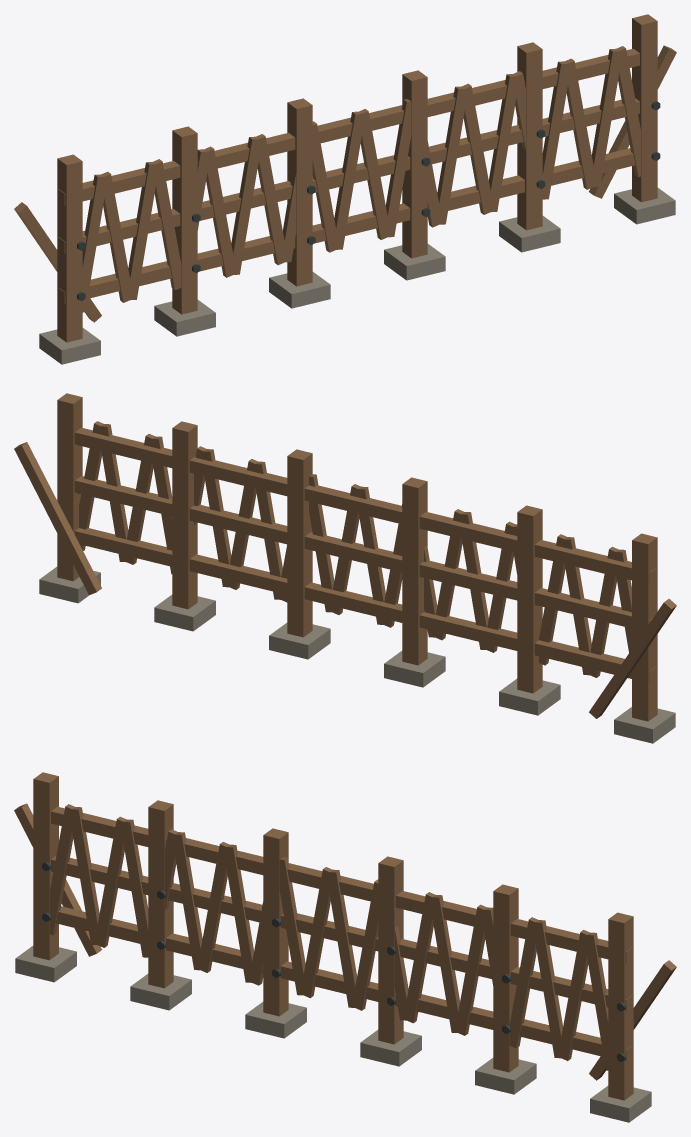
File: windbreak.source.glb
The picture shows the model from 3 angles, top to bottom: view 1: azimuth 30°, elevation 25°; view 2: azimuth 150°, elevation 25°; view 3: azimuth 330°, elevation 25°; orthographic projection.
Visible parts, largest first — view 1: windbreak-rail-1.3-mesh, windbreak-rail-0.48-mesh, windbreak-rail-0.9-mesh, windbreak-post-0-mesh, windbreak-post-1-mesh, windbreak-post-3-mesh, windbreak-post-4-mesh, windbreak-post-5-mesh, windbreak-post-2-mesh, windbreak-slat-10-mesh, windbreak-slat-6-mesh, windbreak-slat-20-mesh (+27 smaller); view 2: windbreak-rail-1.3-mesh, windbreak-rail-0.9-mesh, windbreak-rail-0.48-mesh, windbreak-post-1-mesh, windbreak-post-3-mesh, windbreak-post-4-mesh, windbreak-post-2-mesh, windbreak-post-0-mesh, windbreak-post-5-mesh, windbreak-brace-2.5-mesh, windbreak-brace--2.5-mesh, windbreak-foot-1-mesh (+24 smaller); view 3: windbreak-rail-1.3-mesh, windbreak-rail-0.48-mesh, windbreak-rail-0.9-mesh, windbreak-post-5-mesh, windbreak-post-4-mesh, windbreak-post-2-mesh, windbreak-post-1-mesh, windbreak-post-0-mesh, windbreak-post-3-mesh, windbreak-slat-19-mesh, windbreak-slat-15-mesh, windbreak-slat-1-mesh (+27 smaller).
Part boxes in pixels (x1,y1,x2,y2): windbreak-rail-1.3-mesh: (58, 48, 639, 205); windbreak-rail-0.48-mesh: (58, 148, 635, 304); windbreak-rail-0.9-mesh: (58, 98, 639, 253); windbreak-post-0-mesh: (57, 154, 82, 342); windbreak-post-1-mesh: (172, 126, 197, 314); windbreak-post-3-mesh: (402, 70, 427, 258); windbreak-post-4-mesh: (517, 42, 542, 230); windbreak-post-5-mesh: (632, 14, 657, 202); windbreak-post-2-mesh: (287, 98, 312, 286); windbreak-slat-10-mesh: (332, 111, 365, 249); windbreak-slat-6-mesh: (230, 136, 262, 274); windbreak-slat-20-mesh: (590, 48, 622, 186); windbreak-rail-1.3-mesh: (74, 427, 656, 584); windbreak-rail-0.9-mesh: (74, 476, 652, 628); windbreak-rail-0.48-mesh: (74, 528, 656, 683); windbreak-post-1-mesh: (517, 505, 542, 693); windbreak-post-3-mesh: (287, 449, 312, 637); windbreak-post-4-mesh: (172, 421, 197, 609); windbreak-post-2-mesh: (402, 477, 427, 665); windbreak-post-0-mesh: (632, 533, 657, 721); windbreak-post-5-mesh: (57, 393, 82, 581); windbreak-brace-2.5-mesh: (14, 442, 101, 595); windbreak-brace--2.5-mesh: (589, 598, 676, 718); windbreak-foot-1-mesh: (499, 678, 560, 715); windbreak-rail-1.3-mesh: (51, 806, 632, 963); windbreak-rail-0.48-mesh: (56, 906, 632, 1062); windbreak-rail-0.9-mesh: (51, 856, 632, 1011); windbreak-post-5-mesh: (608, 912, 633, 1100); windbreak-post-4-mesh: (493, 884, 518, 1072); windbreak-post-2-mesh: (263, 828, 288, 1016); windbreak-post-1-mesh: (148, 800, 173, 988); windbreak-post-0-mesh: (33, 772, 58, 960); windbreak-post-3-mesh: (378, 856, 403, 1044); windbreak-slat-19-mesh: (532, 920, 564, 1058); windbreak-slat-15-mesh: (429, 895, 461, 1033); windbreak-slat-1-mesh: (69, 807, 100, 945).
Size of the model in its own units: 5.72 by 1.59 by 0.39.
